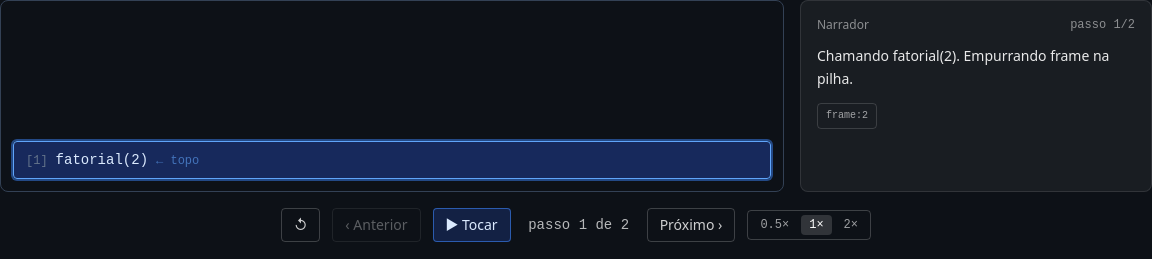
Test: PilhaVisual › volta para o passo anterior ao clicar Anterior
This screenshot has width=1152, height=259.
Click the button "Próximo ›".
click(691, 225)  # box [647, 208, 735, 242]
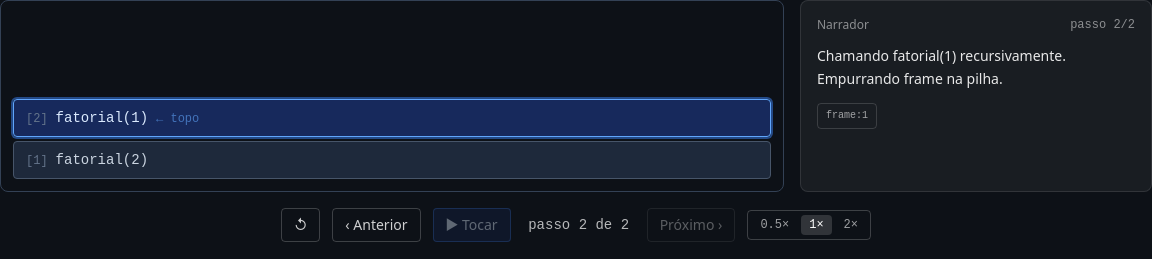
Click the button "‹ Anterior".
click(376, 225)  # box [332, 208, 420, 242]
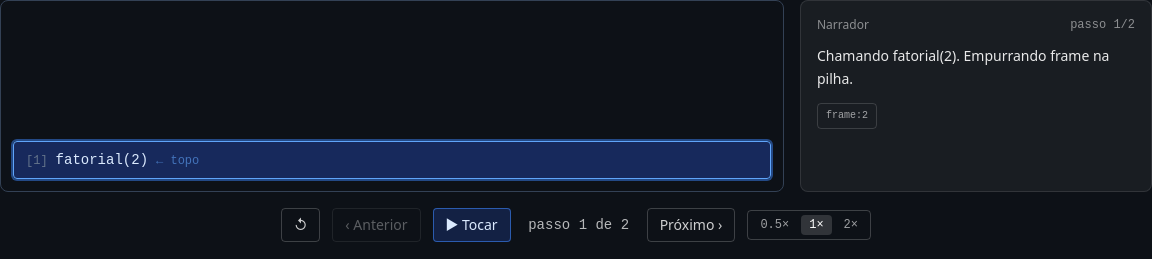
Expected: the text "passo 1 de 2" is shown, [523, 215, 635, 235]
